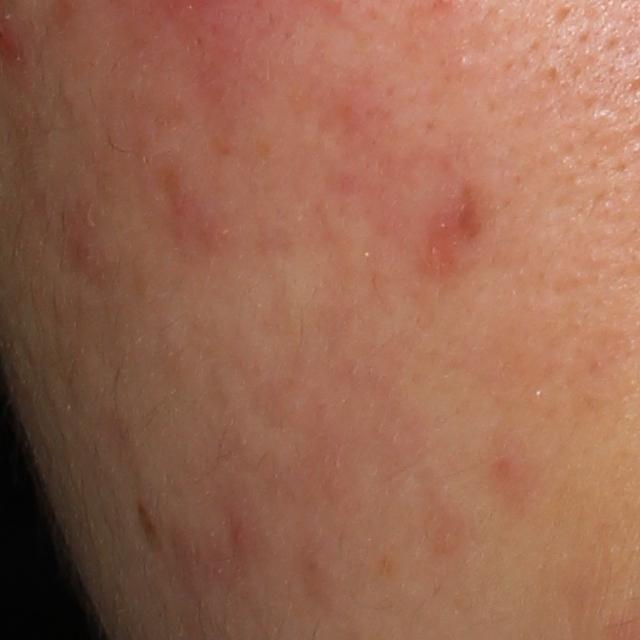comedo: (452, 53, 470, 67)
papule: (69, 227, 107, 285), (229, 518, 253, 553)
